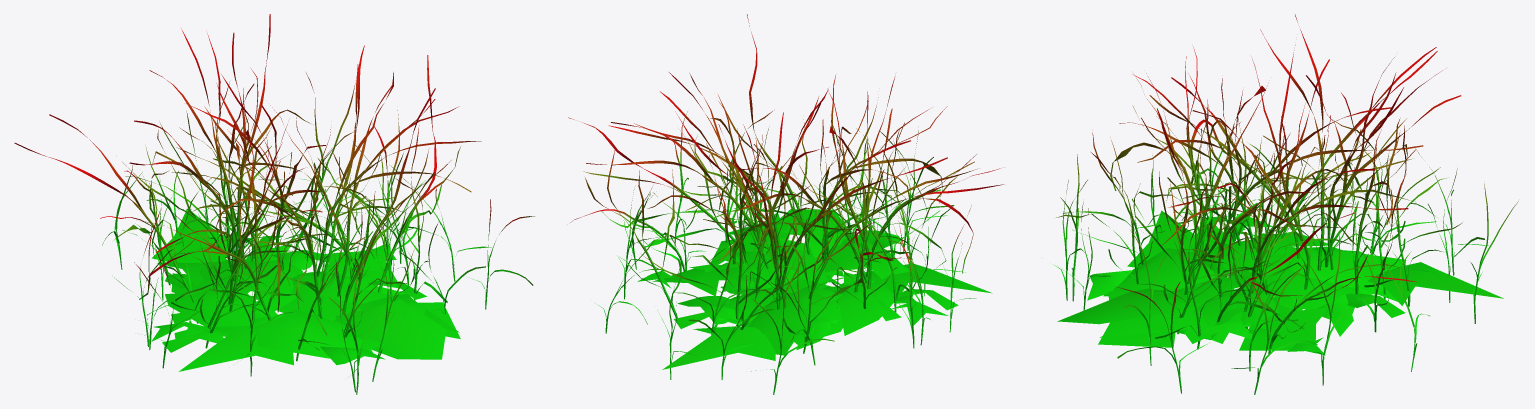
File: Kikuyu Grass_LOD1_Var3_wiljearqx.fbx
The picture shows the model from 3 angles, left to right: view 1: azimuth 30°, elevation 25°; view 2: azimuth 150°, elevation 25°; view 3: azimuth 270°, elevation 25°; orthographic projection. The views are drawn at different scales.
Visible parts, largest first — view 1: _nhfb_Var3_LOD1; view 2: _nhfb_Var3_LOD1; view 3: _nhfb_Var3_LOD1.
Boxes of the visible parts, bbox=[...] form: _nhfb_Var3_LOD1: bbox=[14, 14, 534, 394]; _nhfb_Var3_LOD1: bbox=[568, 14, 1004, 394]; _nhfb_Var3_LOD1: bbox=[1054, 14, 1518, 394].
Size of the model in its own units: 75.72 by 46.58 by 80.19.
